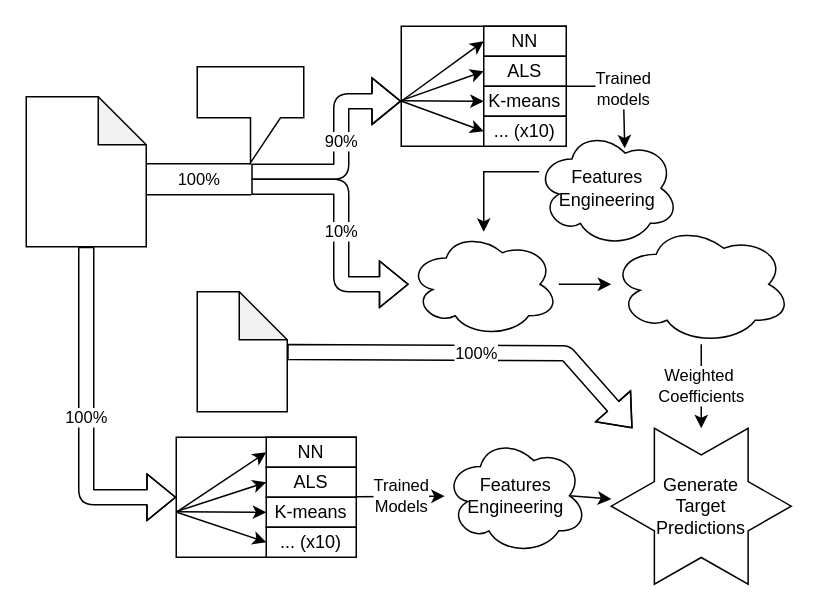
Some shapes in this 818 by 611 pixel diagram are drawn without their labels. The shapes that lost their labels are listed below. From the top down, each one's centre as x and y in pixels, then its label:
At point (250, 114): "Train/Test Split".
At point (85, 171): "Known Ratings".
At point (483, 283): "Generate predictions".
At point (700, 283): "Train Ridge Regr.".
At point (241, 351): "Target Ratings".
